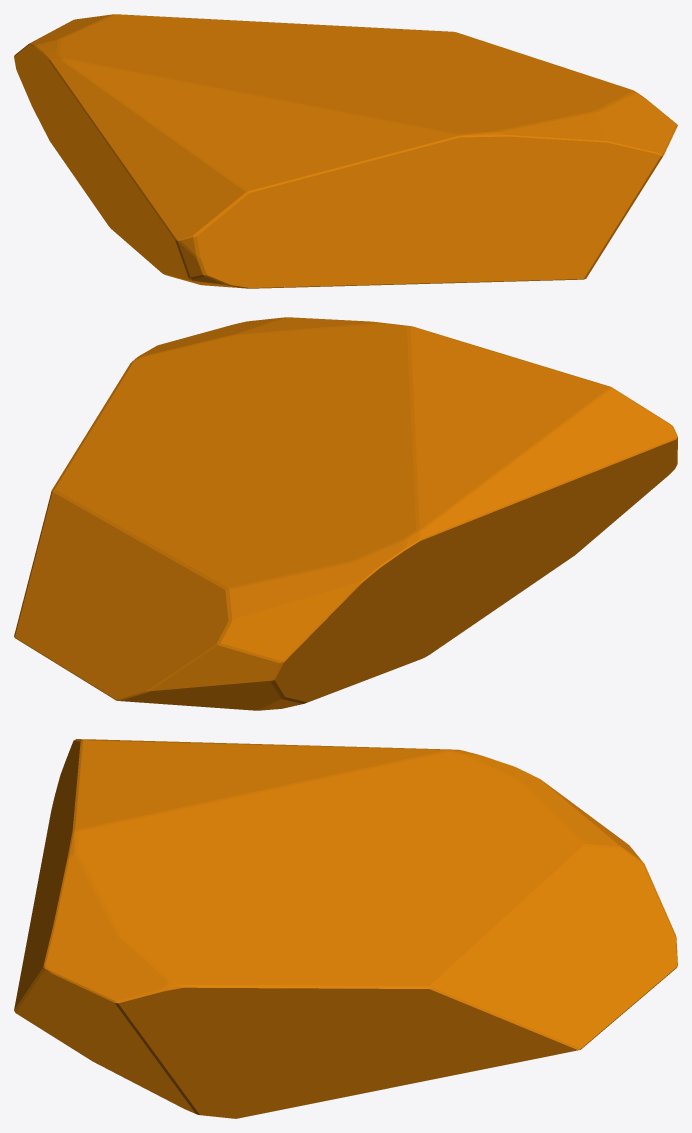
The model's file is rock3.fbx.
3 renders of one model, top to bottom at view 1: azimuth 30°, elevation 25°; view 2: azimuth 150°, elevation 25°; view 3: azimuth 270°, elevation 25°, orthographic. The views are drawn at different scales.
Parts seen in each view (by area): view 1: Icosphere.006; view 2: Icosphere.006; view 3: Icosphere.006.
Boxes of the visible parts, box(x1,y1,x2,y2) form: Icosphere.006: box(14, 14, 677, 288); Icosphere.006: box(14, 317, 677, 710); Icosphere.006: box(14, 739, 677, 1118).
Bounding box in the file's own units: 880 × 336 × 1017.
